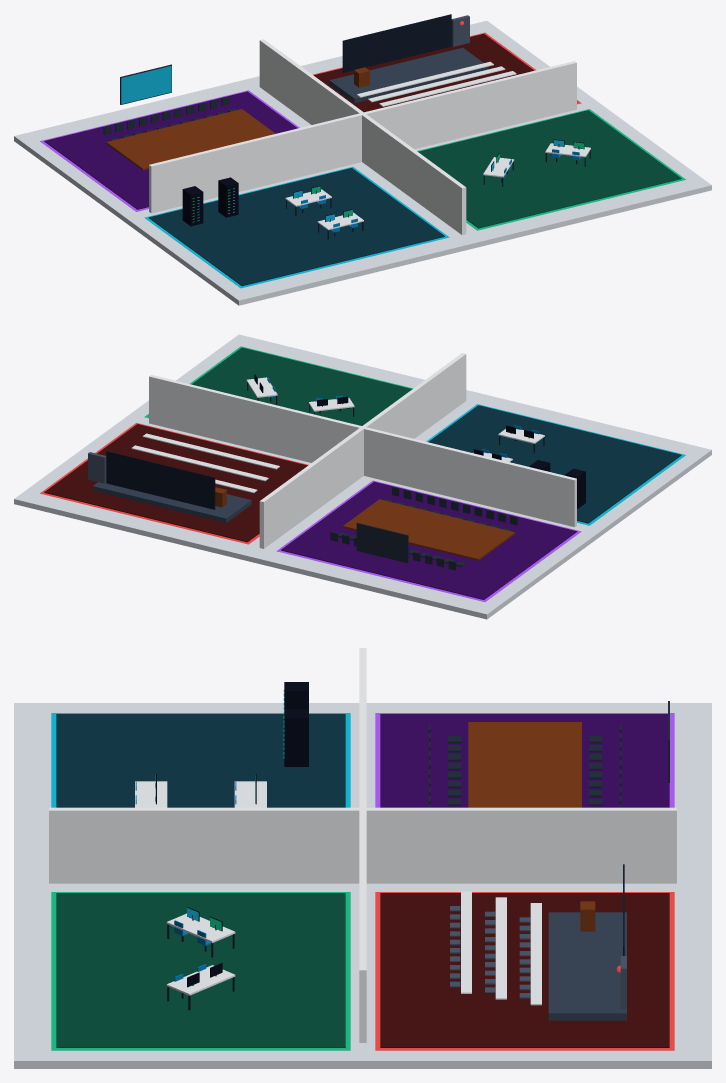
The model's file is academic_floor_2.glb.
3 renders of one model, top to bottom at view 1: azimuth 30°, elevation 25°; view 2: azimuth 150°, elevation 25°; view 3: azimuth 270°, elevation 25°, orthographic. The views are drawn at different scales.
Visible parts, largest first — view 1: object 1, object 3, ROOM_ACAD_202, ROOM_ACAD_203, object 2, ROOM_ACAD_201, object 6, object 169, object 167, ROOM_ACAD_204, object 53, object 56 (+8 smaller); view 2: object 1, object 3, ROOM_ACAD_201, ROOM_ACAD_202, ROOM_ACAD_204, object 2, ROOM_ACAD_203, object 6, object 169, object 167, object 54, object 5 (+5 smaller); view 3: object 1, object 2, ROOM_ACAD_203, ROOM_ACAD_204, ROOM_ACAD_202, ROOM_ACAD_201, object 6, object 167, object 3, object 130, object 166, object 76 (+10 smaller).
Boxes of the visible parts, <box> form: object 1: <box>14,20,711,305</box>; object 3: <box>149,61,576,213</box>; ROOM_ACAD_202: <box>148,168,444,286</box>; ROOM_ACAD_203: <box>418,110,681,228</box>; object 2: <box>259,39,466,234</box>; ROOM_ACAD_201: <box>44,91,297,209</box>; object 6: <box>106,109,275,170</box>; object 169: <box>342,14,451,72</box>; object 167: <box>329,47,488,103</box>; ROOM_ACAD_204: <box>314,33,577,112</box>; object 53: <box>121,66,171,104</box>; object 56: <box>144,167,449,288</box>; object 1: <box>14,334,711,619</box>; object 3: <box>149,375,576,526</box>; ROOM_ACAD_201: <box>281,481,577,599</box>; ROOM_ACAD_202: <box>428,405,681,523</box>; ROOM_ACAD_204: <box>44,424,307,542</box>; object 2: <box>259,353,466,548</box>; ROOM_ACAD_203: <box>191,347,412,425</box>; object 6: <box>343,499,515,560</box>; object 169: <box>106,451,215,509</box>; object 167: <box>93,482,251,522</box>; object 54: <box>356,522,408,563</box>; object 5: <box>276,480,581,601</box>; object 1: <box>14,703,711,1068</box>; object 2: <box>49,807,676,883</box>; ROOM_ACAD_203: <box>56,893,345,1047</box>; ROOM_ACAD_204: <box>380,893,669,1047</box>; ROOM_ACAD_202: <box>56,714,345,807</box>; ROOM_ACAD_201: <box>380,714,669,807</box>; object 6: <box>468,722,581,807</box>; object 167: <box>548,912,626,1020</box>; object 3: <box>359,648,366,1042</box>; object 130: <box>51,892,350,1050</box>; object 166: <box>375,892,674,1050</box>; object 76: <box>284,709,308,766</box>.
Size of the model in its own units: 34 by 3.57 by 28.
